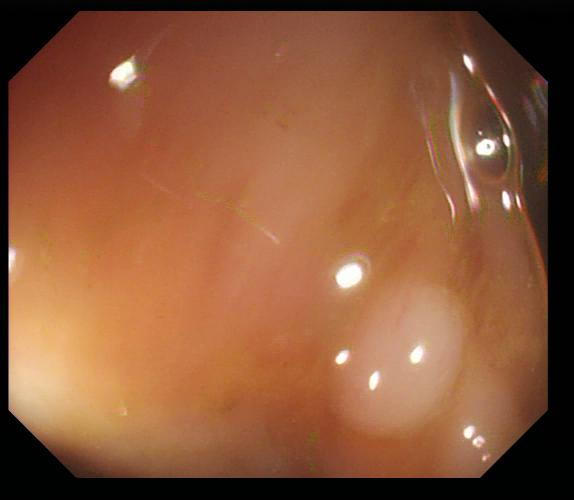polyp: (330, 276, 470, 434)
